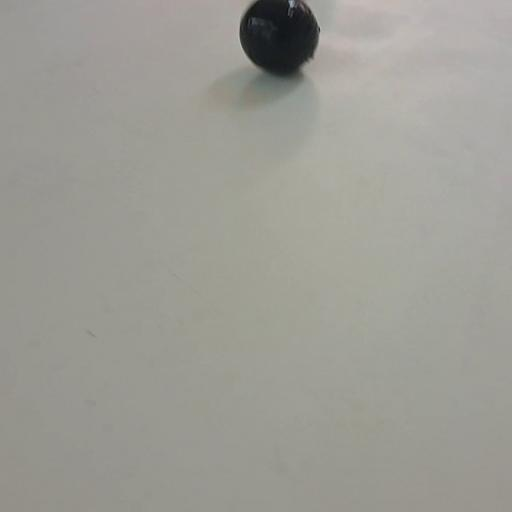dead: (238, 0, 321, 75)
